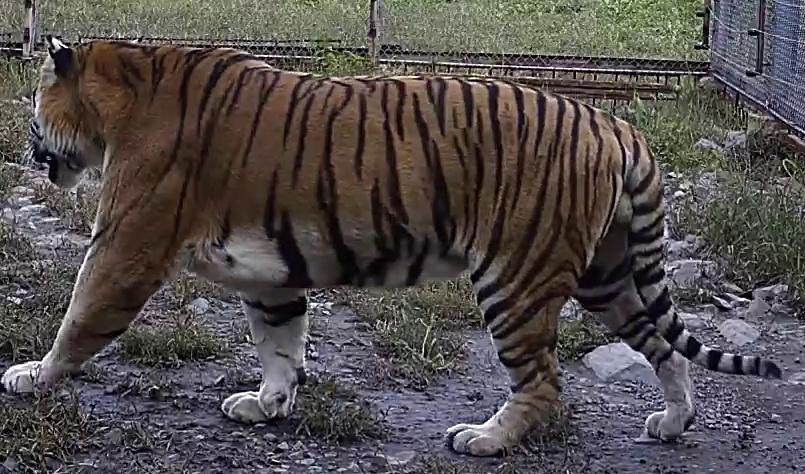tiger: (2, 37, 779, 454)
